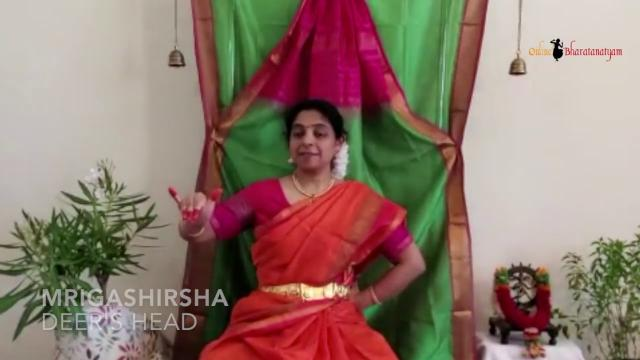mrighasheesh: (168, 177, 230, 261)
